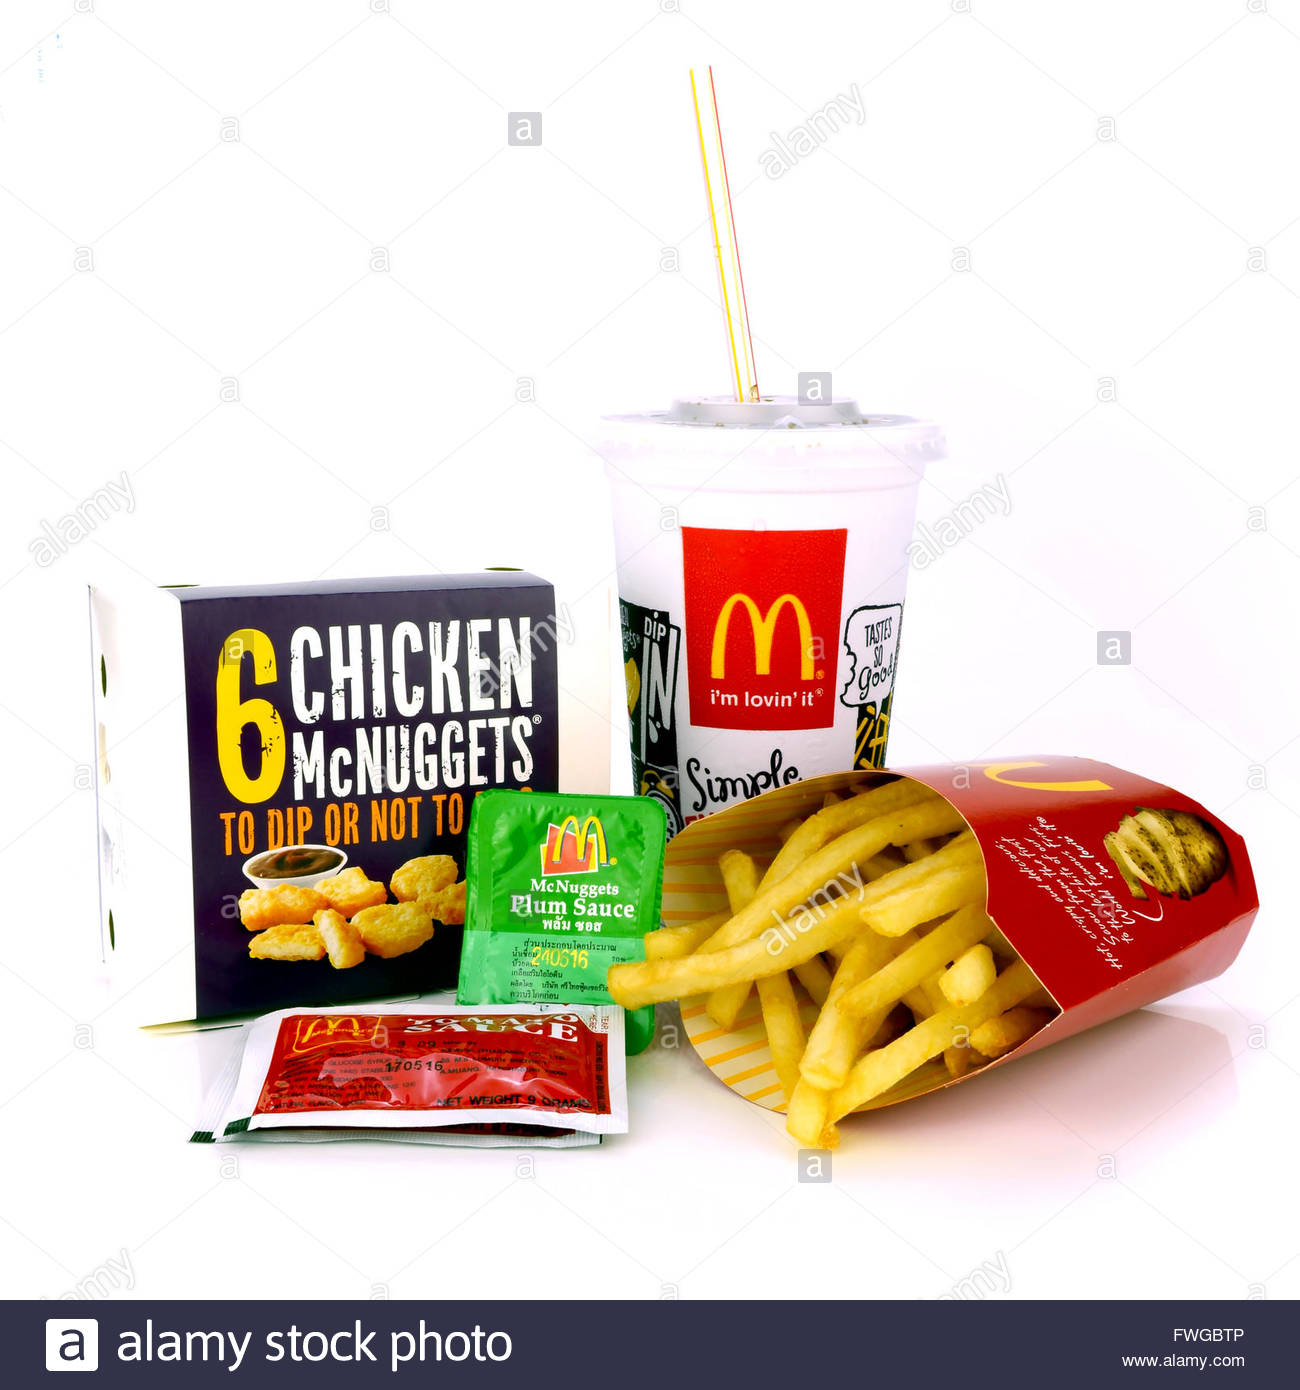mcdonalds: (690, 583, 826, 677)
